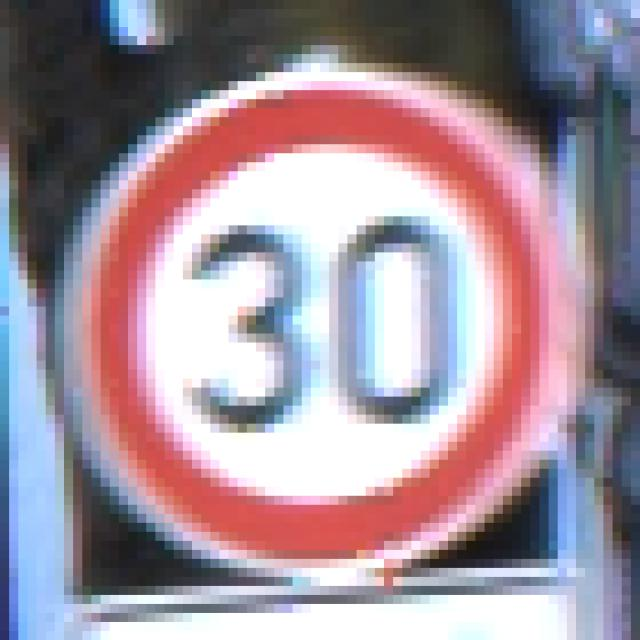Speed Limit -30-: (50, 49, 581, 582)
